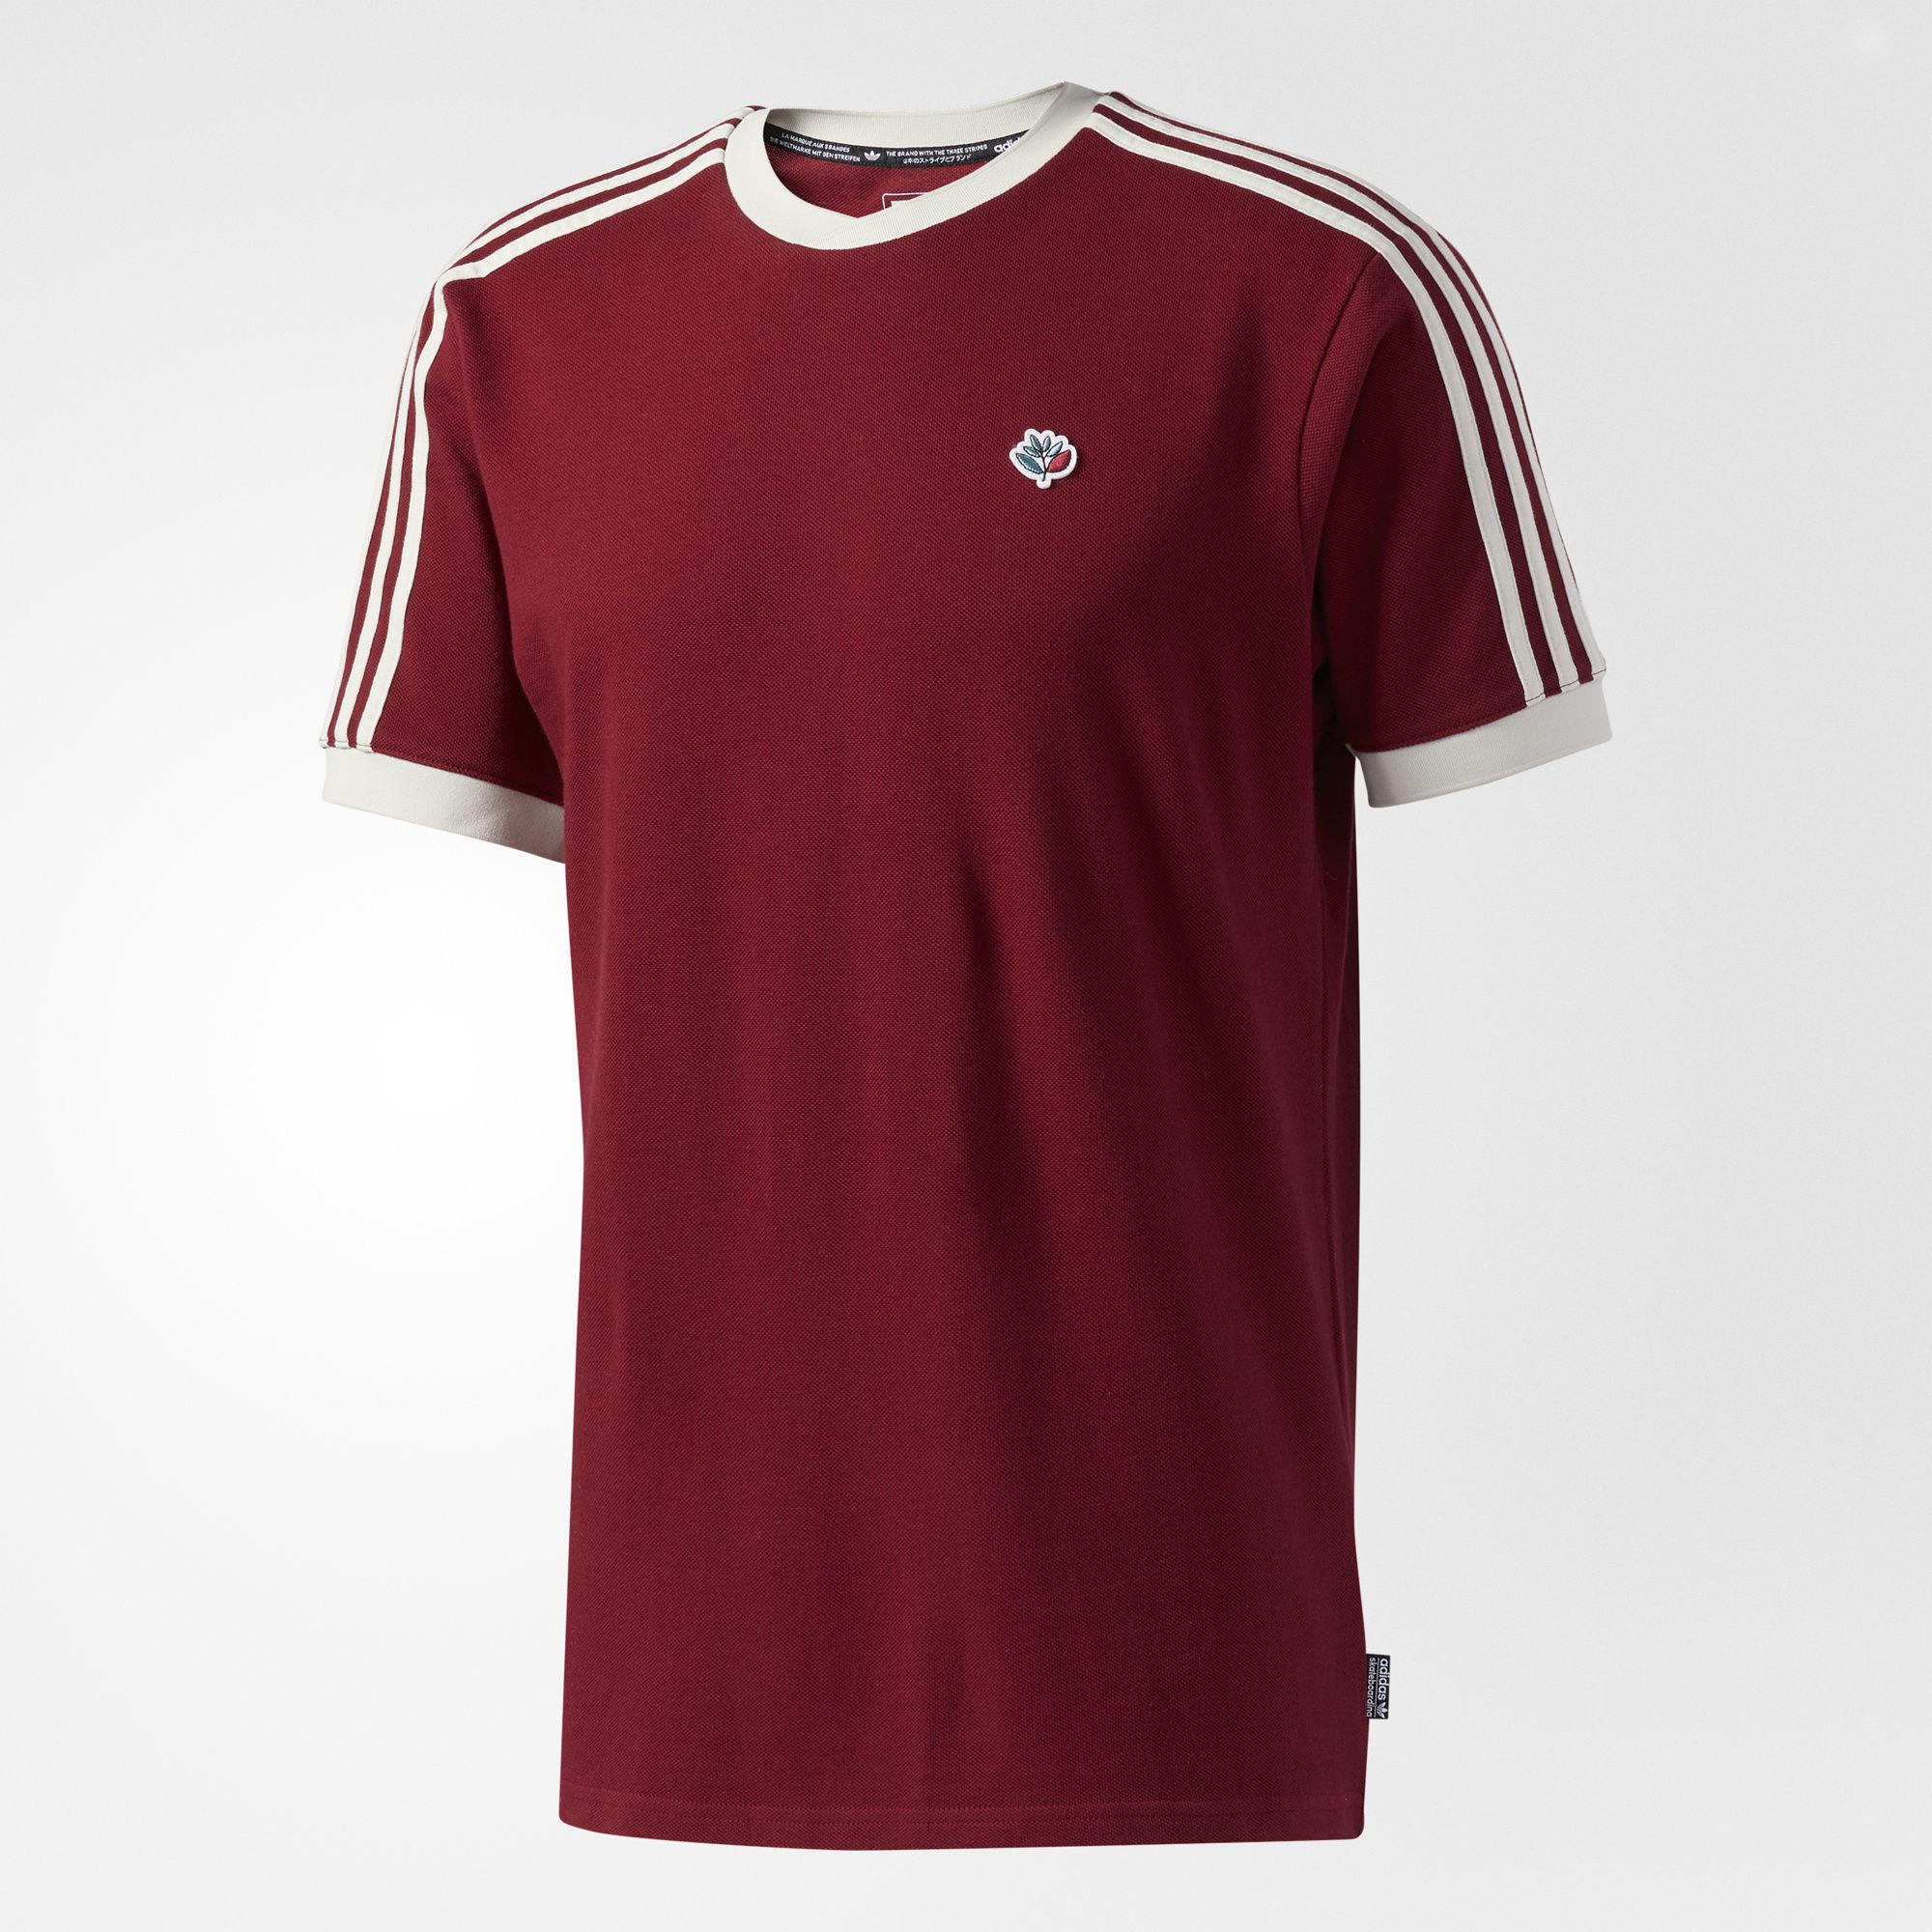teeshirt: (294, 67, 1668, 1867)
